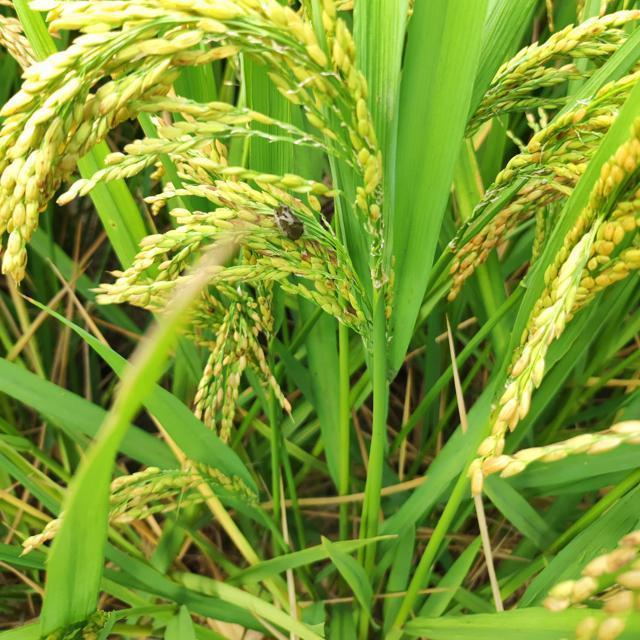Leaf_Scald: (272, 200, 306, 240)
